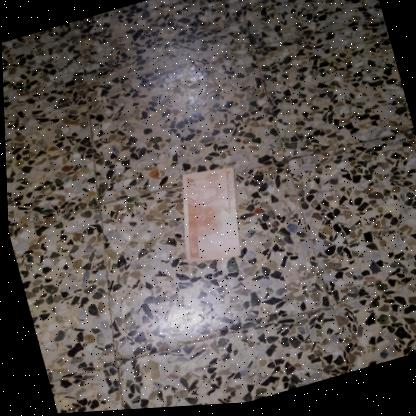twenty-back-vef: (161, 160, 255, 275)
